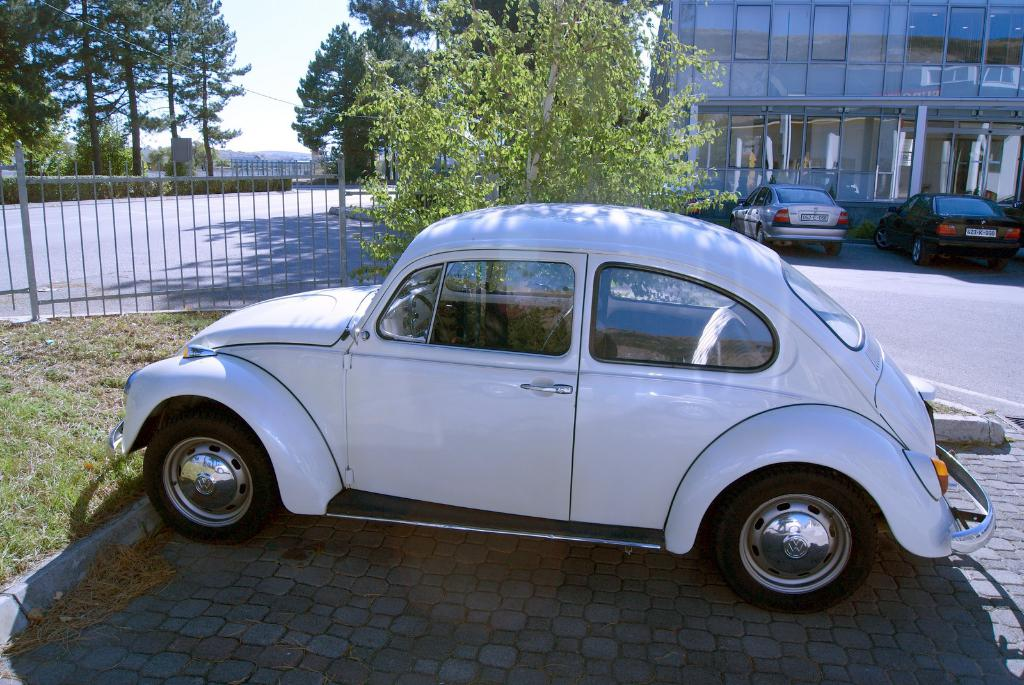Car: (106, 198, 1002, 615), (873, 186, 1022, 271), (732, 177, 848, 260)
